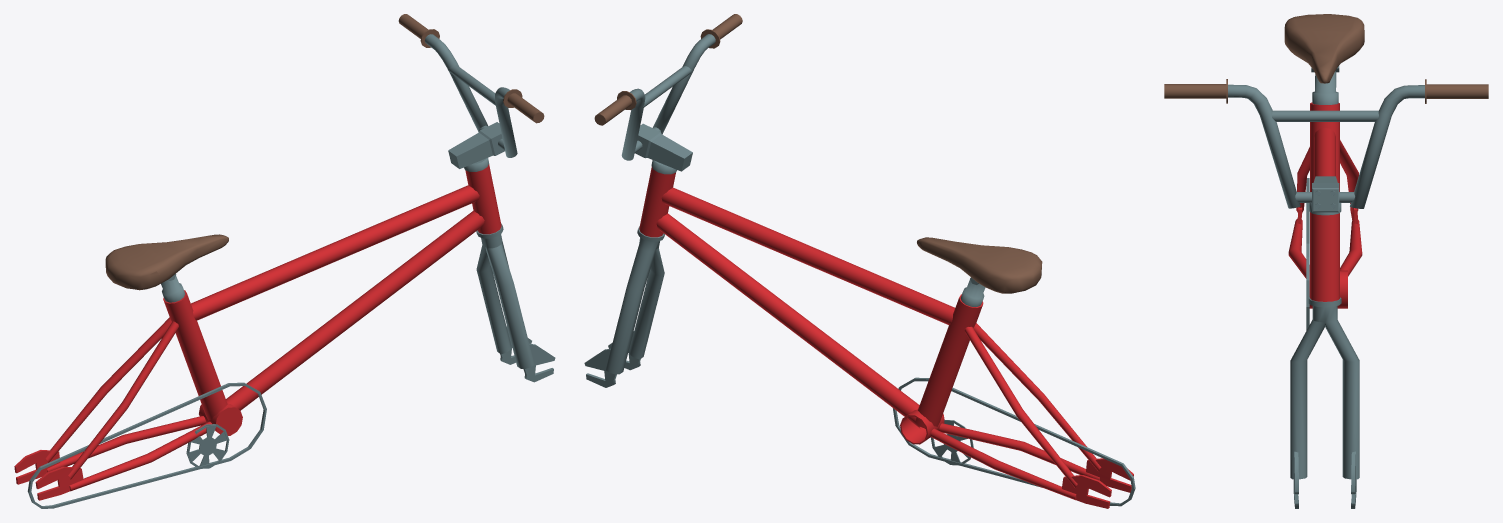
The model's file is bici.obj.
The picture shows the model from 3 angles, left to right: view 1: azimuth 30°, elevation 25°; view 2: azimuth 150°, elevation 25°; view 3: azimuth 270°, elevation 25°; orthographic projection. The views are drawn at different scales.
Visible parts, largest first — view 1: Bike:Frameset_001_Cylinder_041; view 2: Bike:Frameset_001_Cylinder_041; view 3: Bike:Frameset_001_Cylinder_041.
Boxes of the visible parts, x1,y1,x2,y2 form: Bike:Frameset_001_Cylinder_041: (14,14,555,508); Bike:Frameset_001_Cylinder_041: (584,14,1135,508); Bike:Frameset_001_Cylinder_041: (1164,14,1488,508).
Bounding box in the file's own units: 1.55 × 0.9654 × 0.694.
3 materials, 3 textured.
